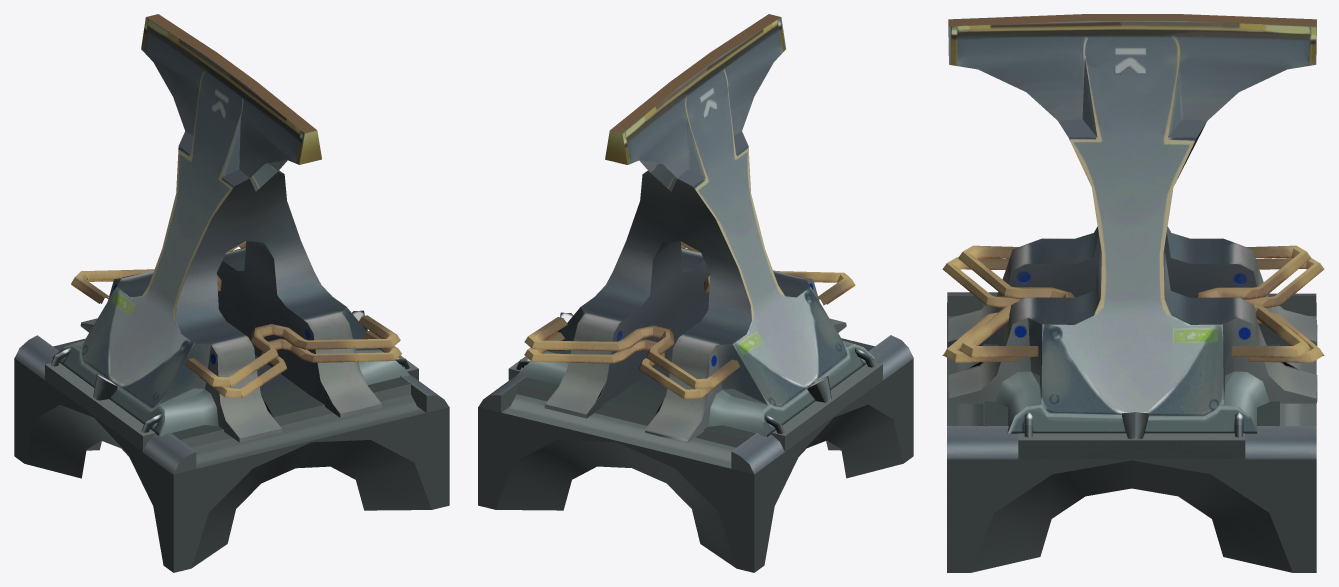
The model's file is trap_155_aegiret.fbx.
3 views of the same model, side by side, from view 1: azimuth 30°, elevation 25°; view 2: azimuth 150°, elevation 25°; view 3: azimuth 270°, elevation 25° (orthographic). The views are drawn at different scales.
Visible parts, largest first — view 1: trap_155_aegiret; view 2: trap_155_aegiret; view 3: trap_155_aegiret.
Boxes of the visible parts, left/top/right/bottom form: trap_155_aegiret: left=14, top=14, right=449, bottom=572; trap_155_aegiret: left=478, top=14, right=913, bottom=572; trap_155_aegiret: left=942, top=14, right=1324, bottom=572.
Size of the model in its own units: 1 by 1.43 by 1.03.
1 material, 1 textured.
